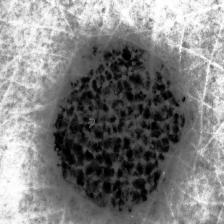Benign Marking or Mole: (54, 47, 191, 210)
